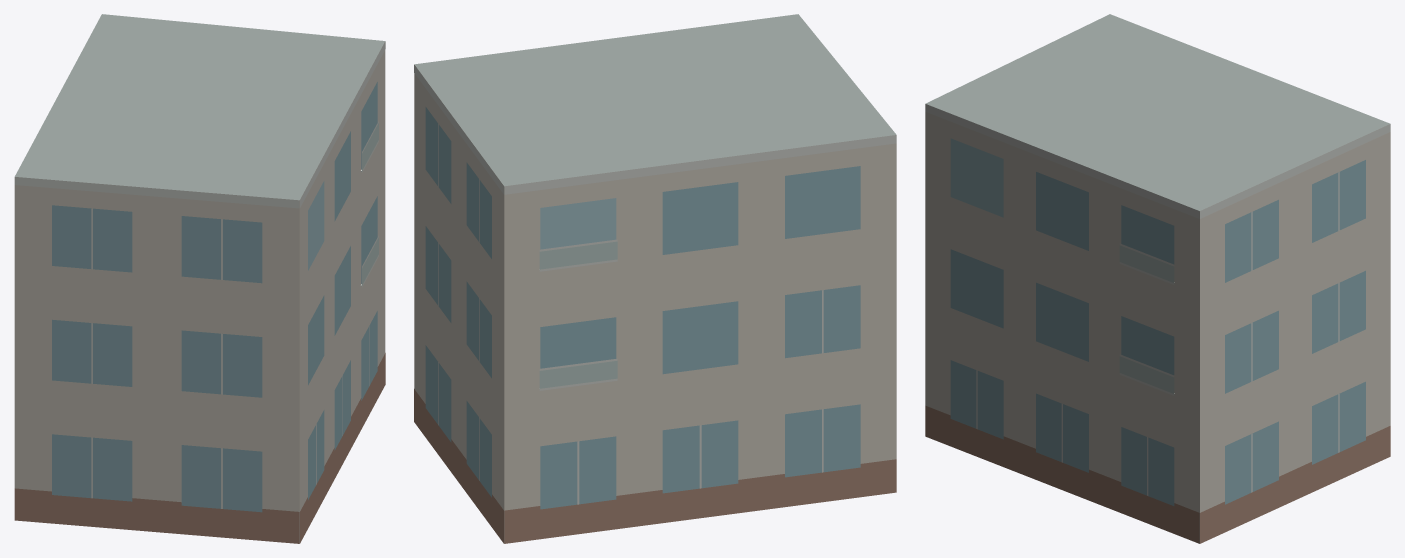
The model's file is survey-upis-32825688.glb.
3 views of the same model, side by side, from view 1: azimuth 30°, elevation 25°; view 2: azimuth 150°, elevation 25°; view 3: azimuth 270°, elevation 25° (orthographic). The views are drawn at different scales.
Visible parts, largest first — view 1: survey-upis-32825688.tmp; view 2: survey-upis-32825688.tmp; view 3: survey-upis-32825688.tmp.
Part boxes in pixels (left/top/right/bottom): survey-upis-32825688.tmp: left=14, top=14, right=385, bottom=543; survey-upis-32825688.tmp: left=414, top=14, right=896, bottom=543; survey-upis-32825688.tmp: left=925, top=14, right=1390, bottom=543.
Bounding box in the file's own units: 12.97 × 10.2 × 12.94.
